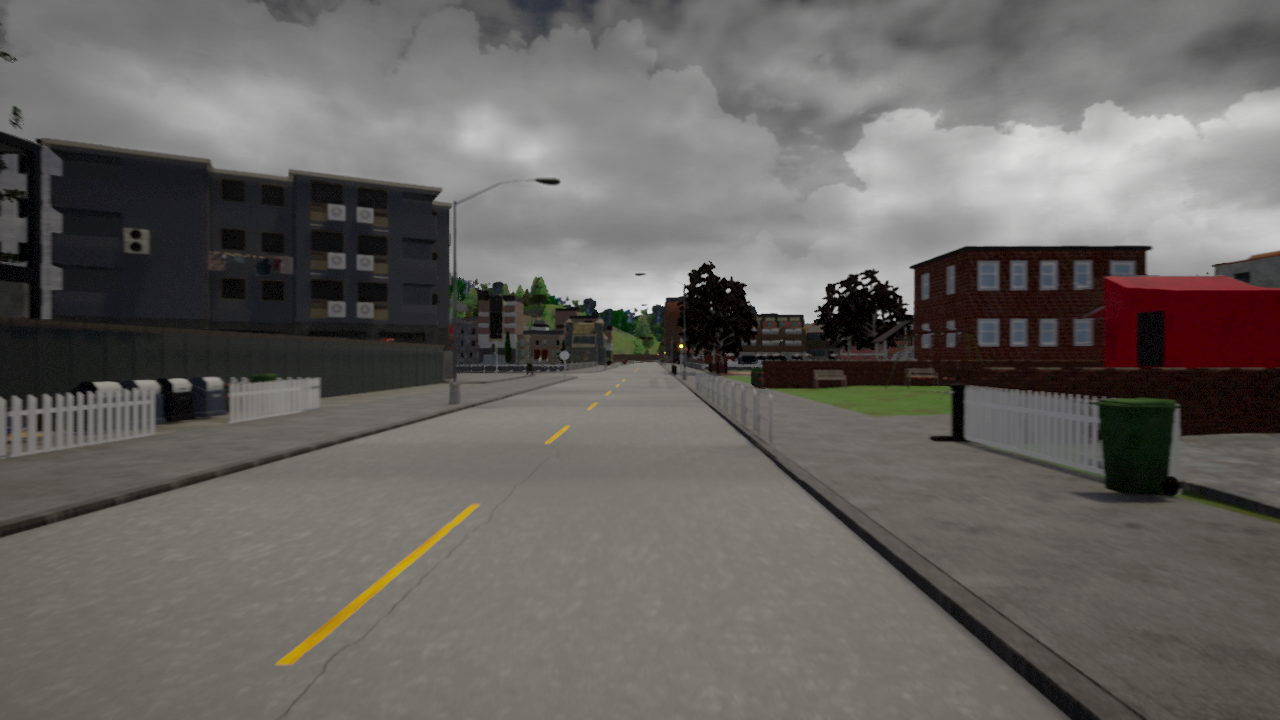yellow: (677, 336, 686, 353)
